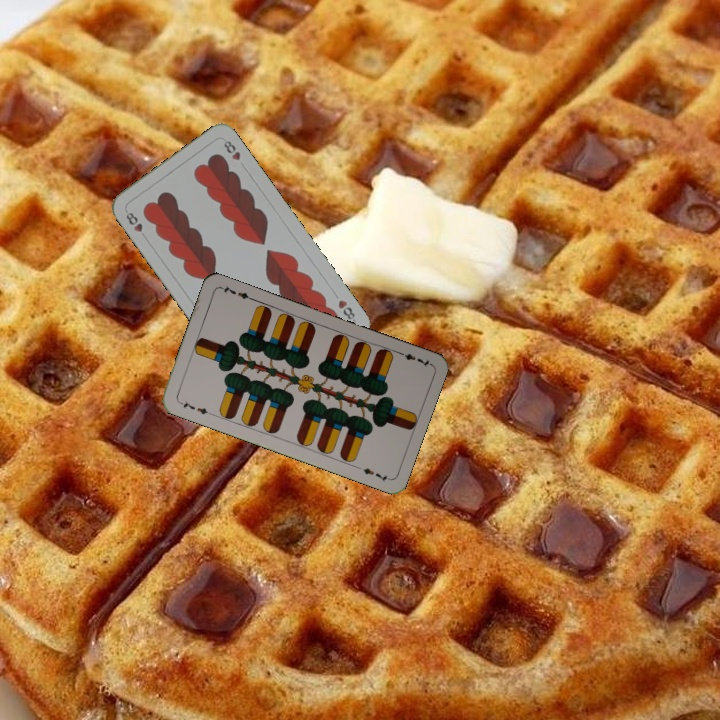E7: (394, 347, 433, 370), (175, 396, 214, 417)
H8: (122, 208, 150, 242), (334, 295, 358, 324)
